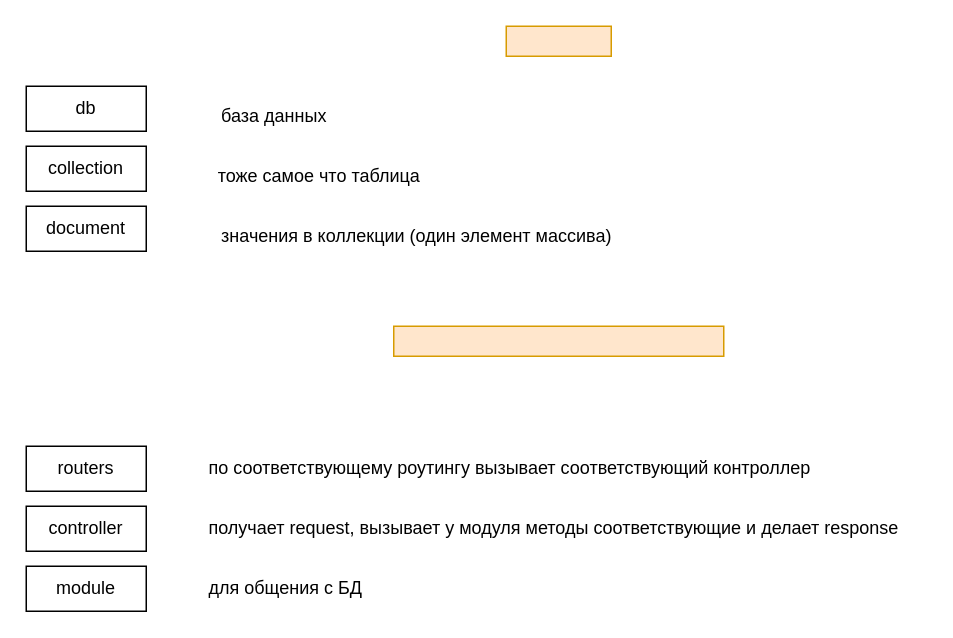
Some shapes in this 953 by 638 pixel diagram are drawn without their labels. Here are the shapes that lost their labels. From the top down, the centre of each, then its label:
point 558,40: структура
point 558,340: основные принципы работы с Моngo
